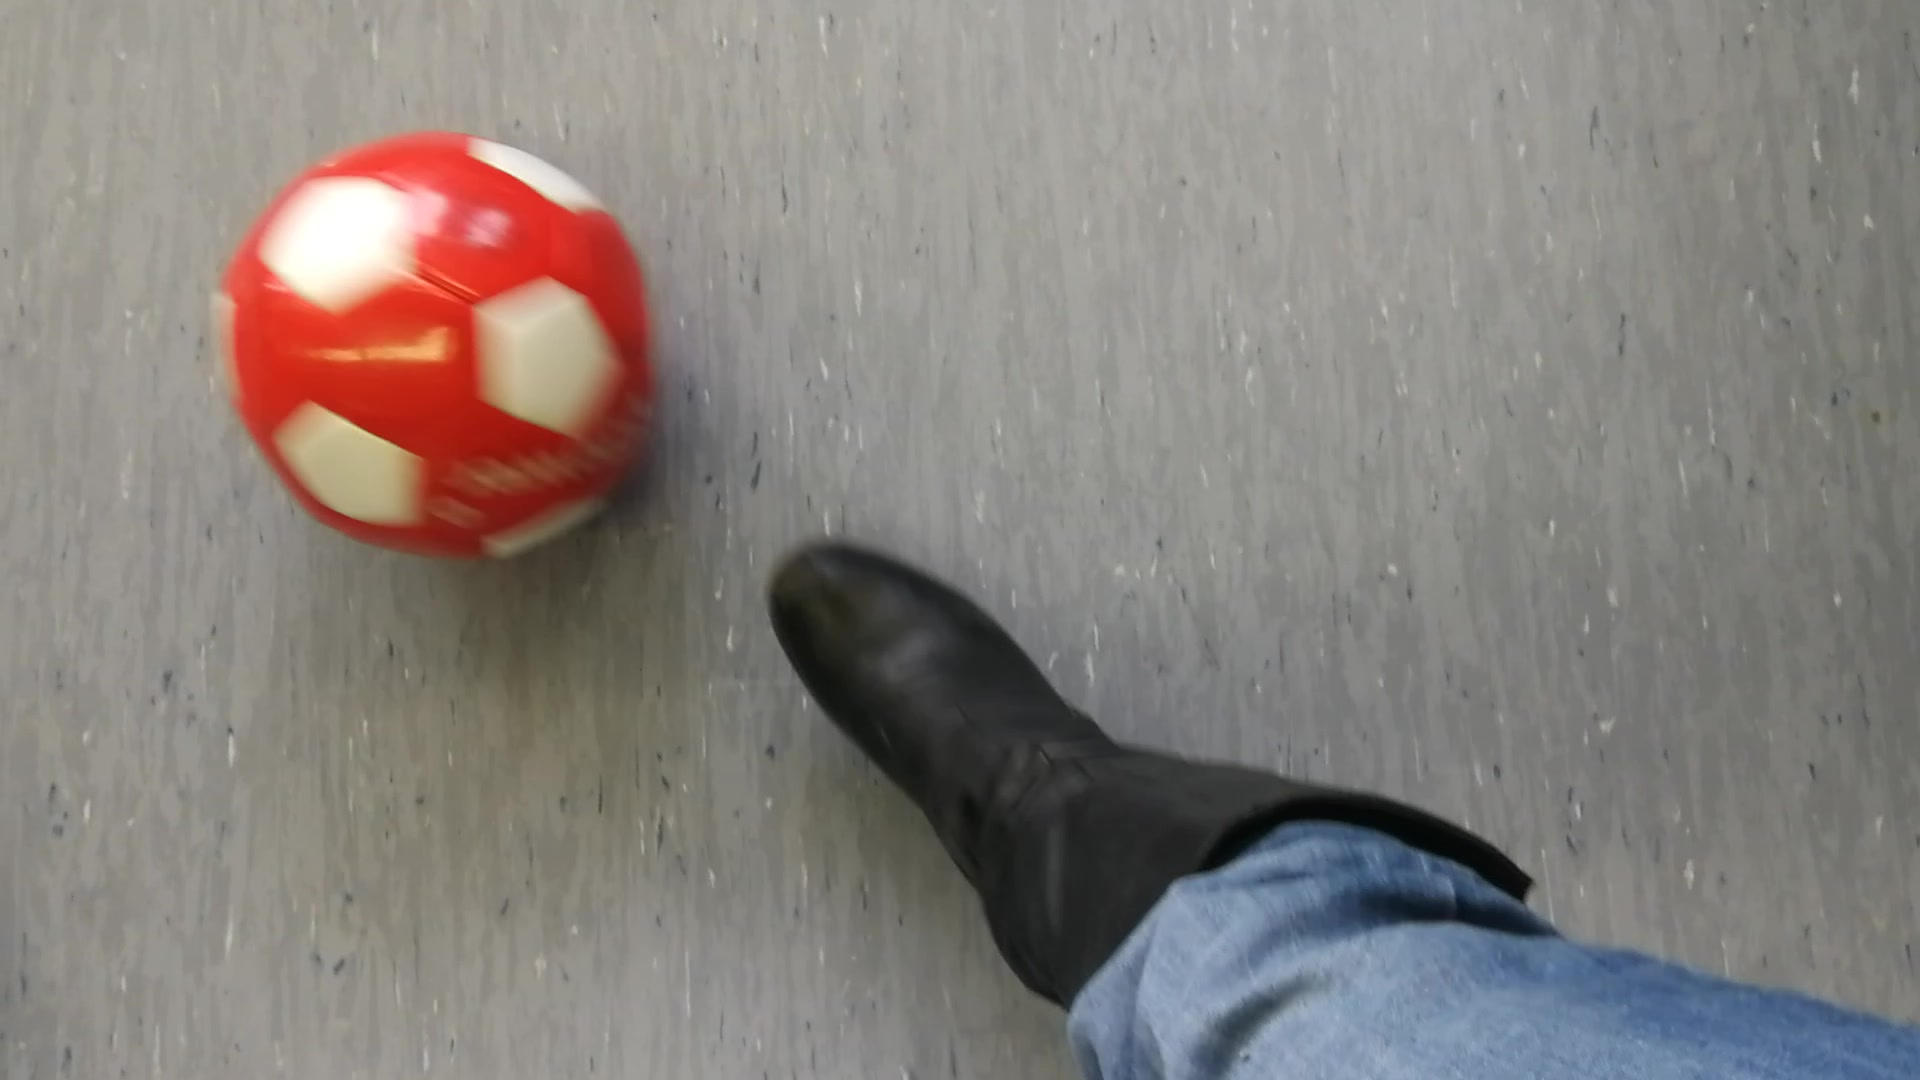soccerball: (218, 112, 669, 574)
